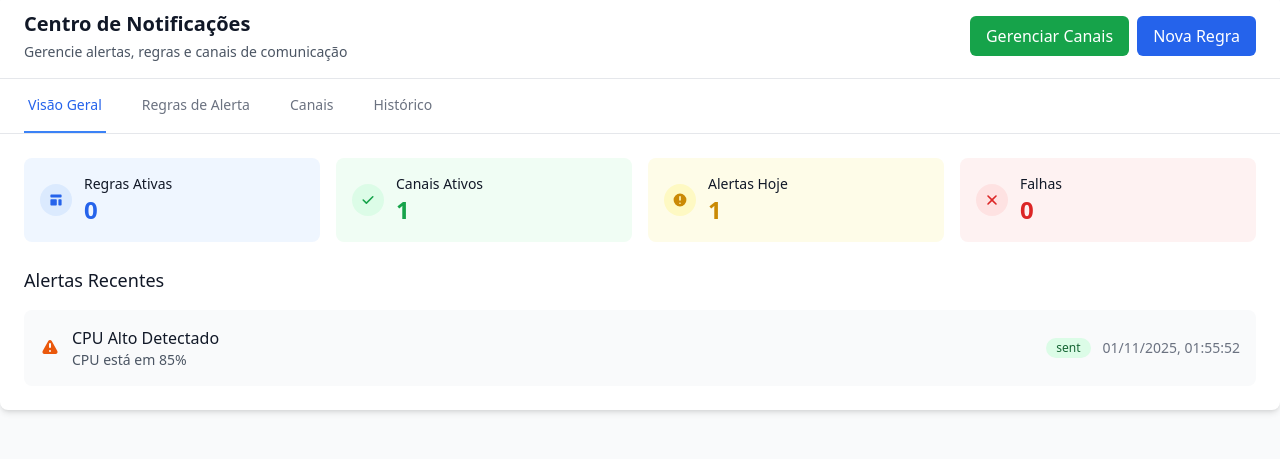
NotificationCenter › deve mostrar mensagem quando não há regras
Ir para aba de regras
Click the button "Regras de Alerta" at (196, 106), box [138,79,254,133]
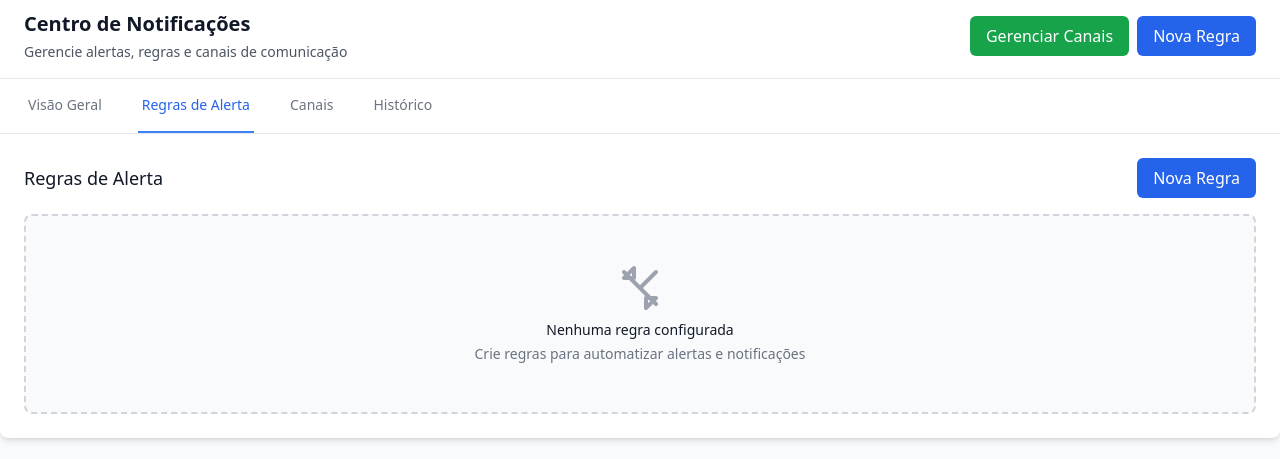
Expected: the heading "Nenhuma regra configurada" is shown, [546,320,734,339]
